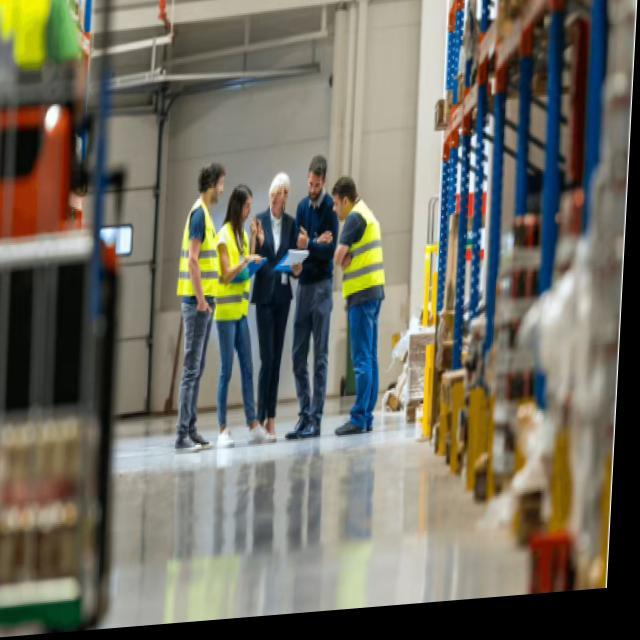shoes: (335, 415, 374, 443)
vest: (333, 199, 396, 301), (176, 189, 225, 316), (210, 219, 256, 332)
